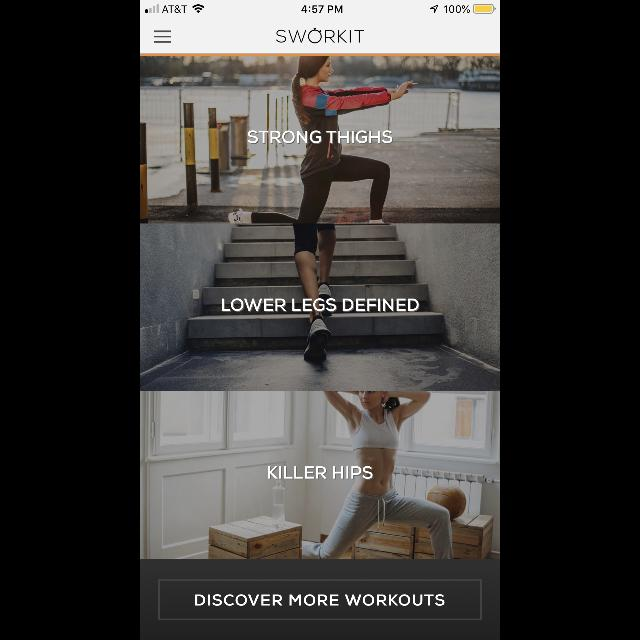icon: (154, 31, 172, 44)
image: (140, 54, 500, 224), (140, 225, 500, 392), (140, 392, 500, 558), (276, 28, 364, 44)
text: (222, 298, 420, 312), (248, 130, 392, 144), (268, 466, 374, 479)
textbutton: (158, 580, 482, 620)
uppertaskbar: (140, 0, 500, 14)
